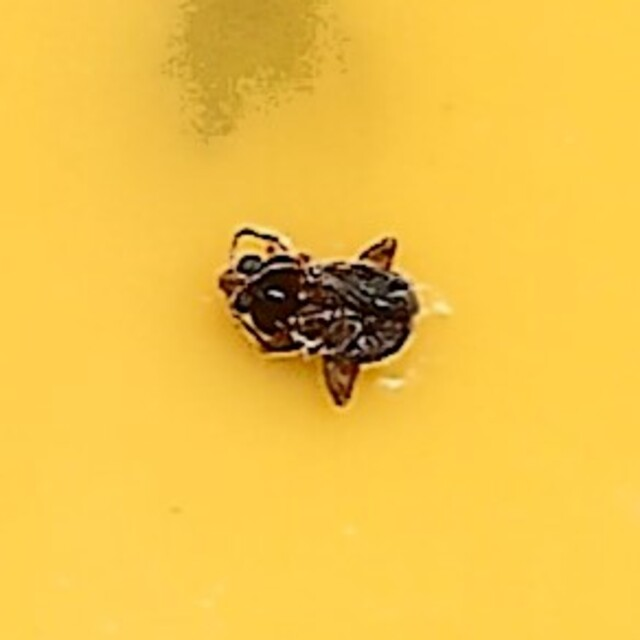Coleoptera: (219, 230, 421, 410)
